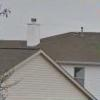Chimney: (17, 12, 47, 52)
